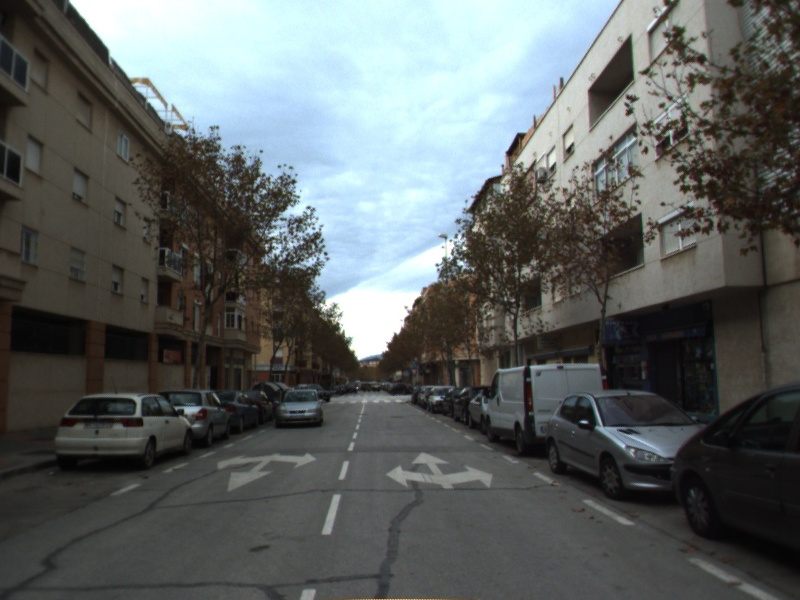STRAIGHT_LEFT_RIGHT: (384, 450, 495, 491)
